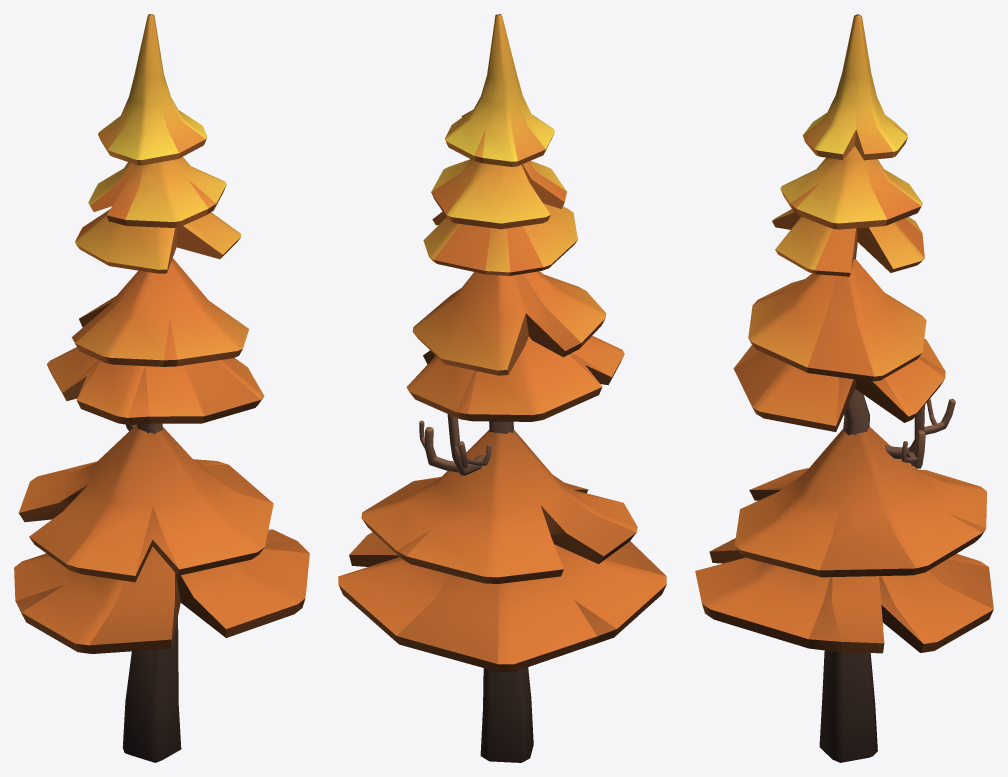
Rendered from pine_tree_col2_01.fbx.
3 views of the same model, side by side, from view 1: azimuth 30°, elevation 25°; view 2: azimuth 150°, elevation 25°; view 3: azimuth 270°, elevation 25° (orthographic).
Visible parts, largest first — view 1: pine_tree_col2_01; view 2: pine_tree_col2_01; view 3: pine_tree_col2_01.
Boxes of the visible parts, left/top/right/bottom form: pine_tree_col2_01: left=14, top=14, right=309, bottom=762; pine_tree_col2_01: left=338, top=14, right=666, bottom=762; pine_tree_col2_01: left=695, top=14, right=993, bottom=762.
Size of the model in its own units: 586 by 1573 by 575.
Materials: 1 (1 with a texture image).
